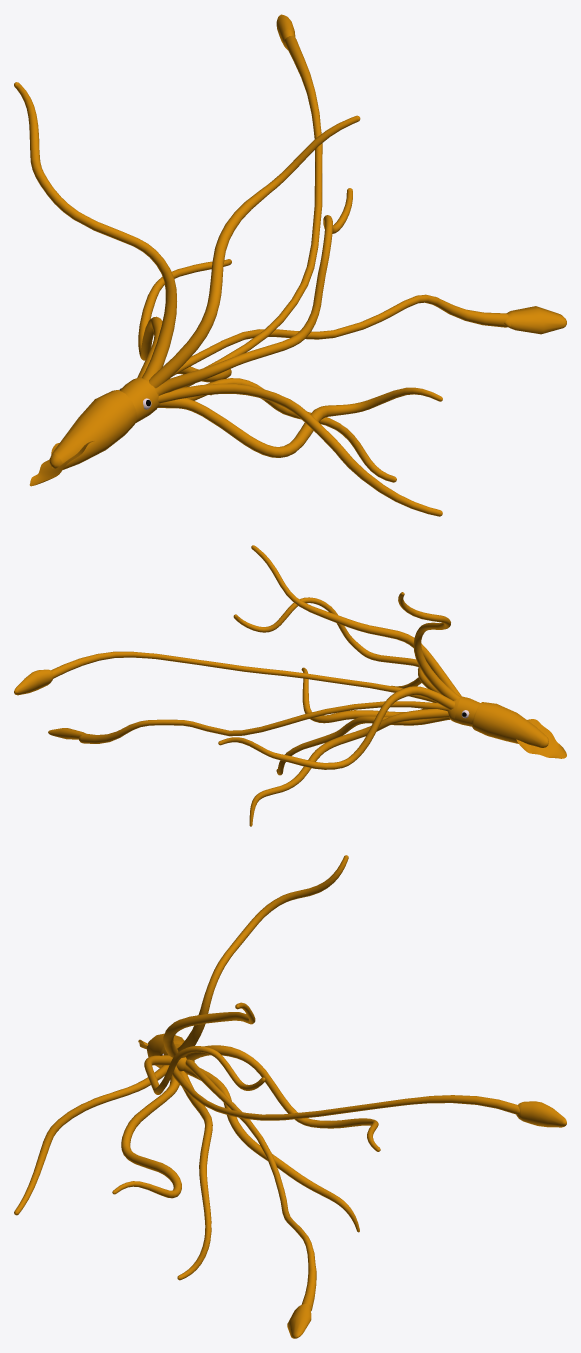
Rendered from squid.glb.
3 renders of one model, top to bottom at view 1: azimuth 30°, elevation 25°; view 2: azimuth 150°, elevation 25°; view 3: azimuth 270°, elevation 25°, orthographic. The views are drawn at different scales.
Visible parts, largest first — view 1: i0004.14109, i0000.22290; view 2: i0004.14109, i0000.22290; view 3: i0004.14109.
Part boxes in pixels (x1=…): i0004.14109: x1=14, y1=14, x2=566, y2=516; i0000.22290: x1=29, y1=390, x2=137, y2=486; i0004.14109: x1=14, y1=545, x2=480, y2=826; i0000.22290: x1=472, y1=702, x2=566, y2=758; i0004.14109: x1=14, y1=855, x2=566, y2=1338.
Bounding box in the file's own units: 1.54 × 0.9239 × 1.46.
